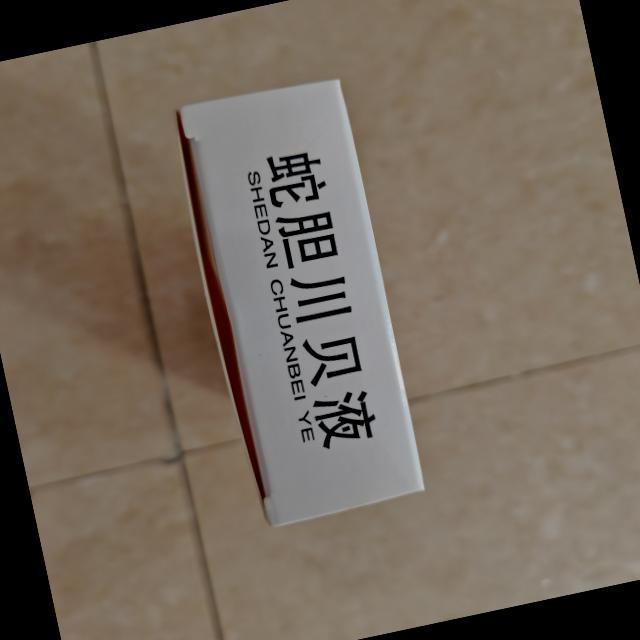box: (160, 61, 443, 542)
